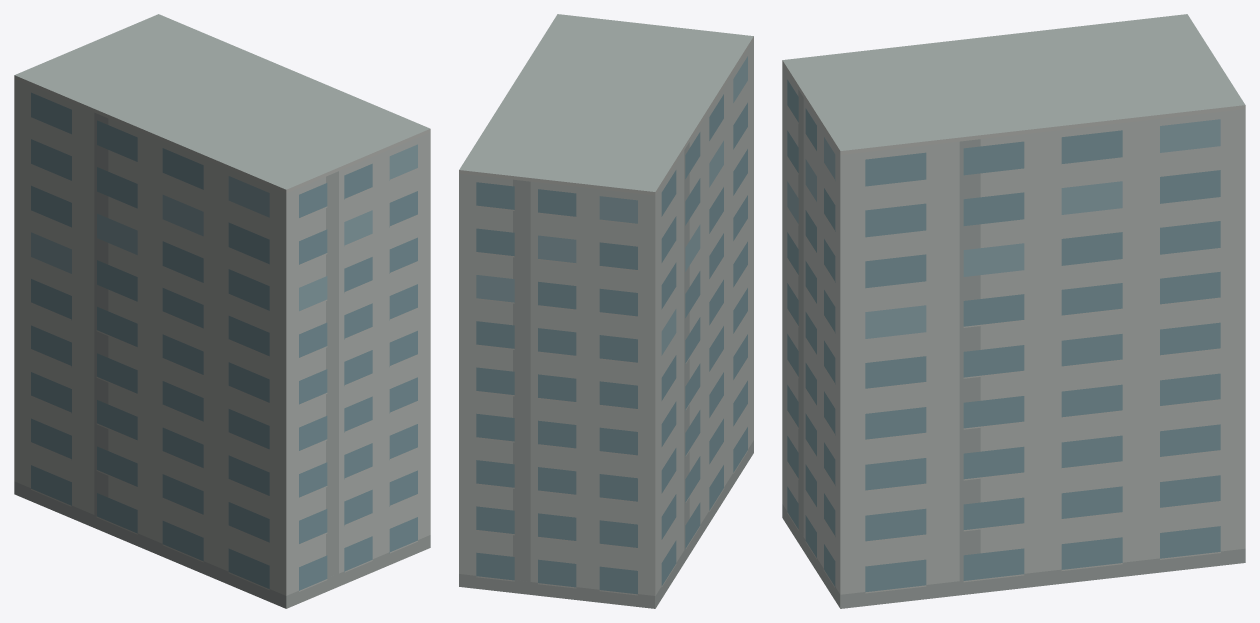
File: residential-6948f065-6c67-45d8-95f0-fab5cb39e58c.glb
3 renders of one model, left to right at view 1: azimuth 30°, elevation 25°; view 2: azimuth 150°, elevation 25°; view 3: azimuth 270°, elevation 25°, orthographic. The views are drawn at different scales.
Visible parts, largest first — view 1: residential-6948f065-6c67-45d8-95f0-fab5cb39e58c.tmp; view 2: residential-6948f065-6c67-45d8-95f0-fab5cb39e58c.tmp; view 3: residential-6948f065-6c67-45d8-95f0-fab5cb39e58c.tmp.
Part boxes in pixels (left/top/right/bottom): residential-6948f065-6c67-45d8-95f0-fab5cb39e58c.tmp: left=14, top=14, right=430, bottom=608; residential-6948f065-6c67-45d8-95f0-fab5cb39e58c.tmp: left=459, top=14, right=753, bottom=608; residential-6948f065-6c67-45d8-95f0-fab5cb39e58c.tmp: left=782, top=14, right=1245, bottom=608.
Bounding box in the file's own units: 18 × 28 × 25.68.
